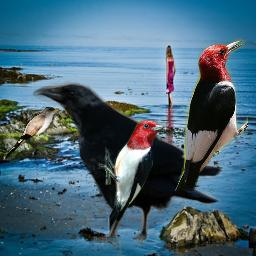Crow: (33, 81, 222, 253)
Cuckoo: (3, 107, 60, 160)
Woodpecker: (173, 38, 248, 191), (97, 120, 170, 235)
